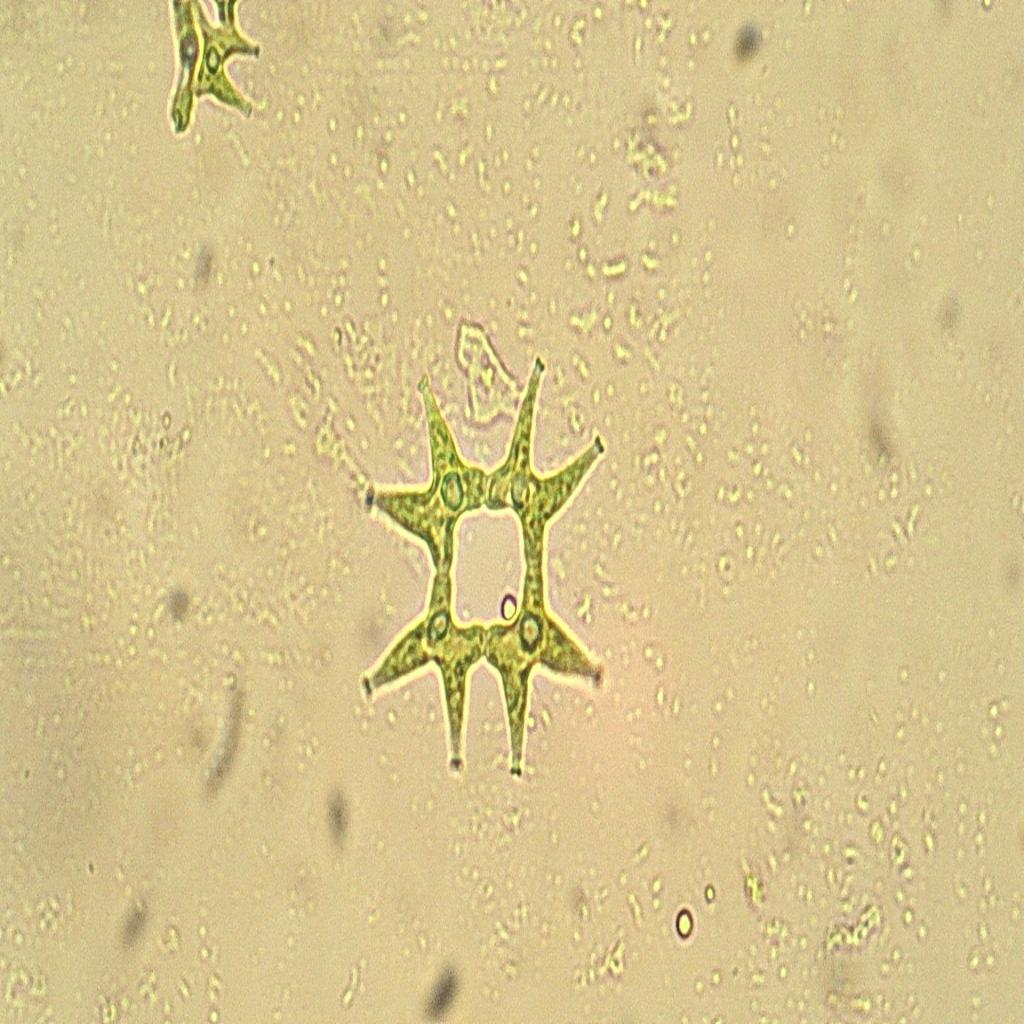Pediastrum_10: (348, 336, 634, 788)
